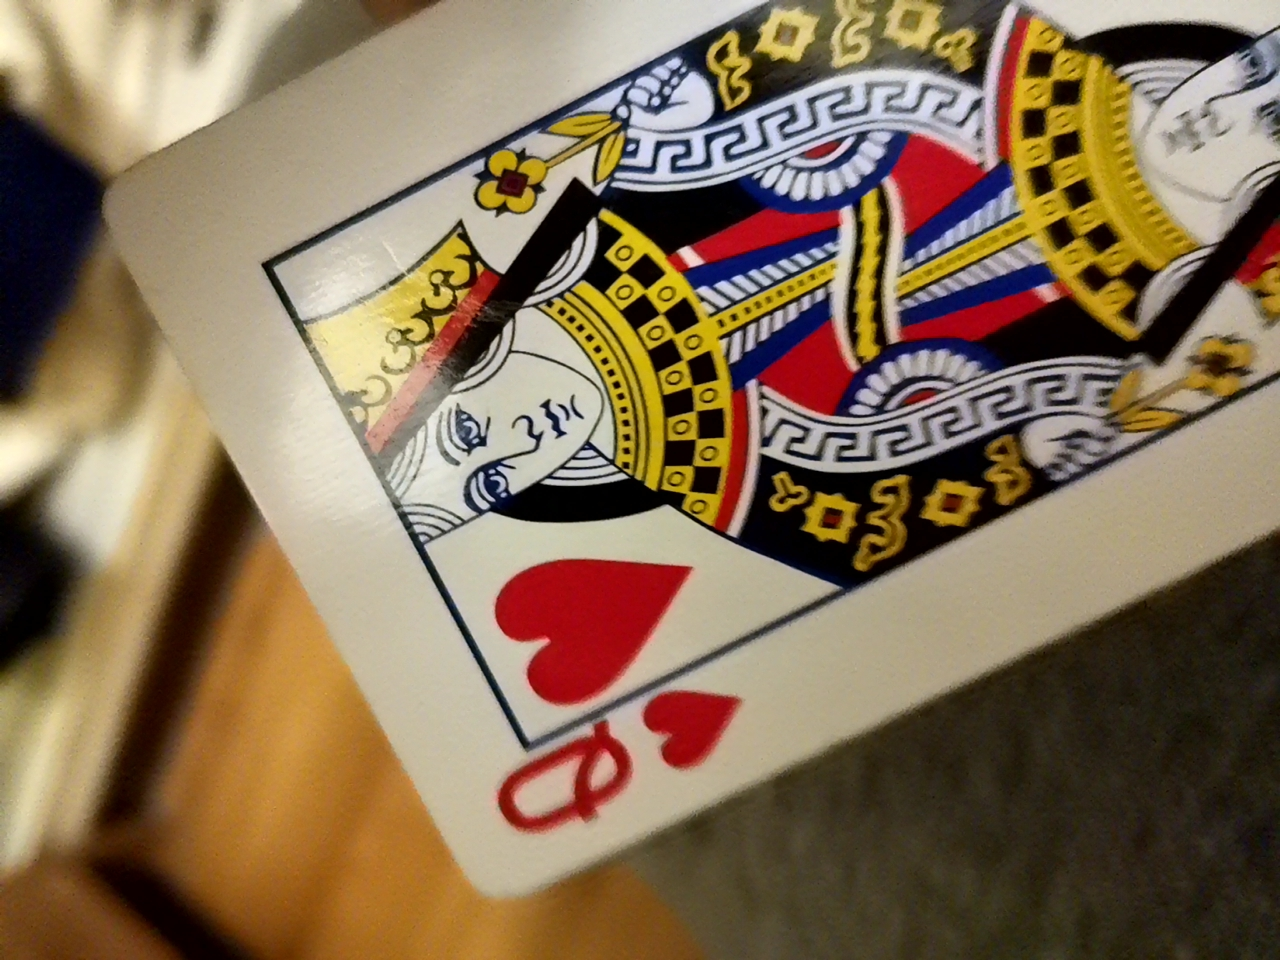hx q: (246, 9, 1268, 883)
